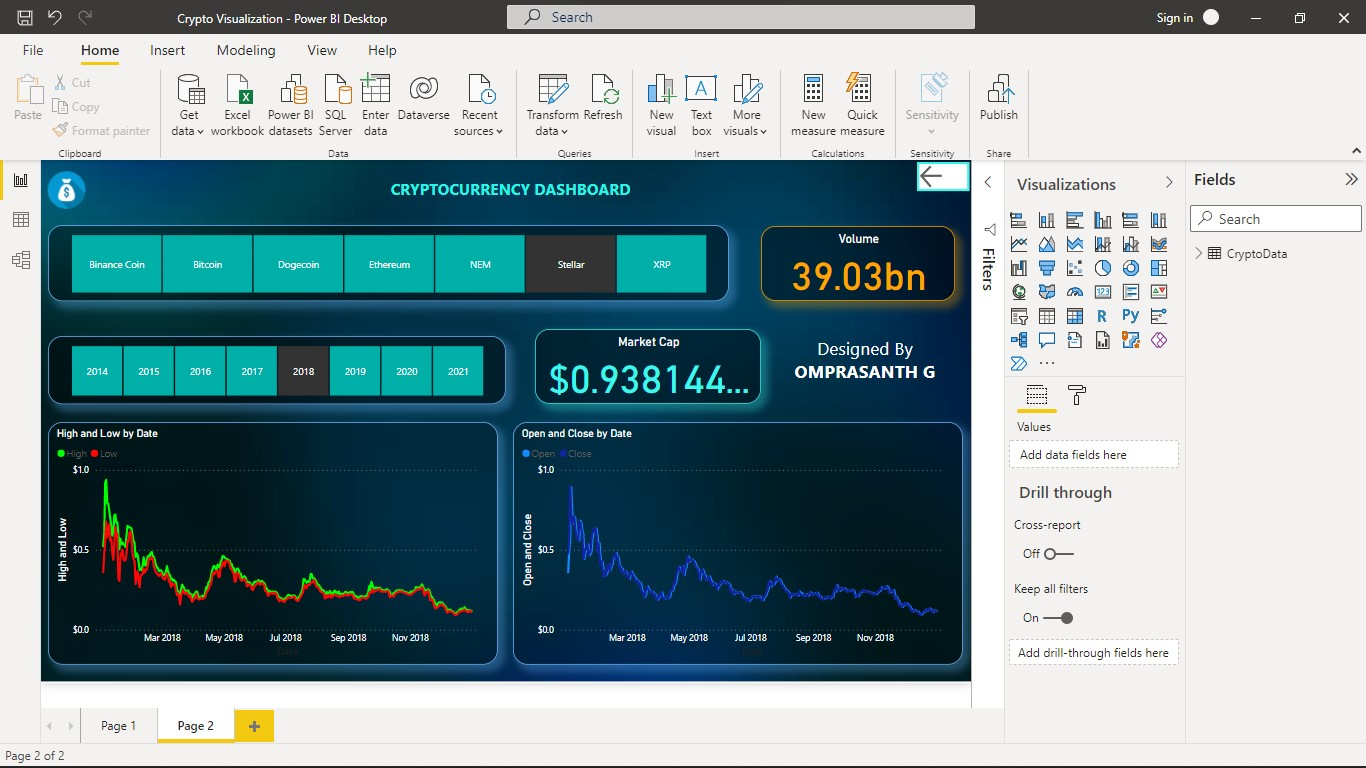

The dashboard page shown, as its layout file describes it:
{"tool":"powerbi","page":{"name":"Page 2","canvas":[1280,720],"ordinal":1},"visuals":[{"type":"slicer","fields":{"Values":["CryptoData.Name"]},"box":[9.6,89.5,937.3,104.6],"z":0},{"type":"slicer","fields":{"Values":["CryptoData.Year"]},"box":[9.6,242.2,630.4,93.6],"z":1000},{"type":"lineChart","fields":{"Category":["CryptoData.Date"],"Y":["Sum(CryptoData.High)","Sum(CryptoData.Low)"]},"box":[9.6,360.6,619.4,334.5],"z":2000},{"type":"image","box":[4.1,1.4,61.9,79.8],"z":3000},{"type":"textbox","box":[476.2,20.6,359.2,41.3],"z":4000},{"type":"card","title":"Volume","fields":{"Values":["Sum(CryptoData.Volume)"]},"box":[991,90.8,267,103.2],"z":5000},{"type":"card","title":"Market Cap","fields":{"Values":["Max(CryptoData.High)"]},"box":[679.9,232.6,311.1,103.2],"z":6000},{"type":"actionButton","box":[1205.7,2.8,71.6,39.9],"z":7000},{"type":"lineChart","fields":{"Category":["CryptoData.Date"],"Y":["Sum(CryptoData.Open)","Sum(CryptoData.Close)"]},"box":[649.6,360.6,619.4,334.5],"z":8000},{"type":"textbox","box":[1010.2,236.7,247.7,99.1],"z":8001}]}

Visuals, with their boxes on the page's 1280x720 design canvas (x1, y1, x2, y2). These are canvas units, not pixel positions in the 1366x768 screenshot, which may show the page scaled, cropped or inside an application window:
slicer - CryptoData.Name: detection(10, 90, 947, 194)
slicer - CryptoData.Year: detection(10, 242, 640, 336)
lineChart - CryptoData.Date x Sum(CryptoData.High): detection(10, 361, 629, 695)
image: detection(4, 1, 66, 81)
textbox: detection(476, 21, 835, 62)
"Volume" card: detection(991, 91, 1258, 194)
"Market Cap" card: detection(680, 233, 991, 336)
actionButton: detection(1206, 3, 1277, 43)
lineChart - CryptoData.Date x Sum(CryptoData.Open): detection(650, 361, 1269, 695)
textbox: detection(1010, 237, 1258, 336)
